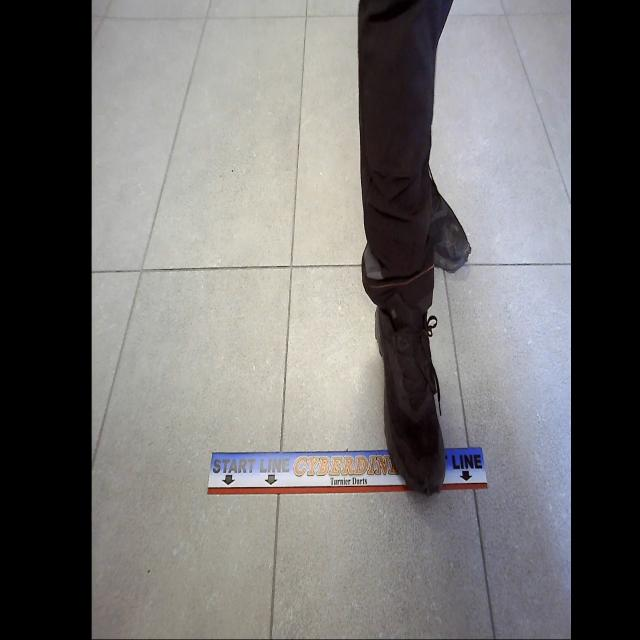foot: (372, 294, 453, 501), (427, 166, 471, 272)
